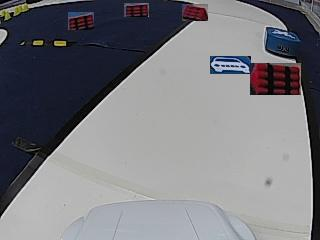prop: (265, 25, 301, 58)
